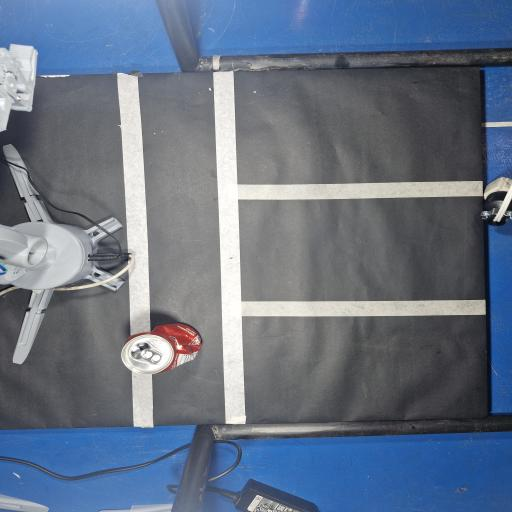lata_defectuoso: (122, 323, 201, 374)
